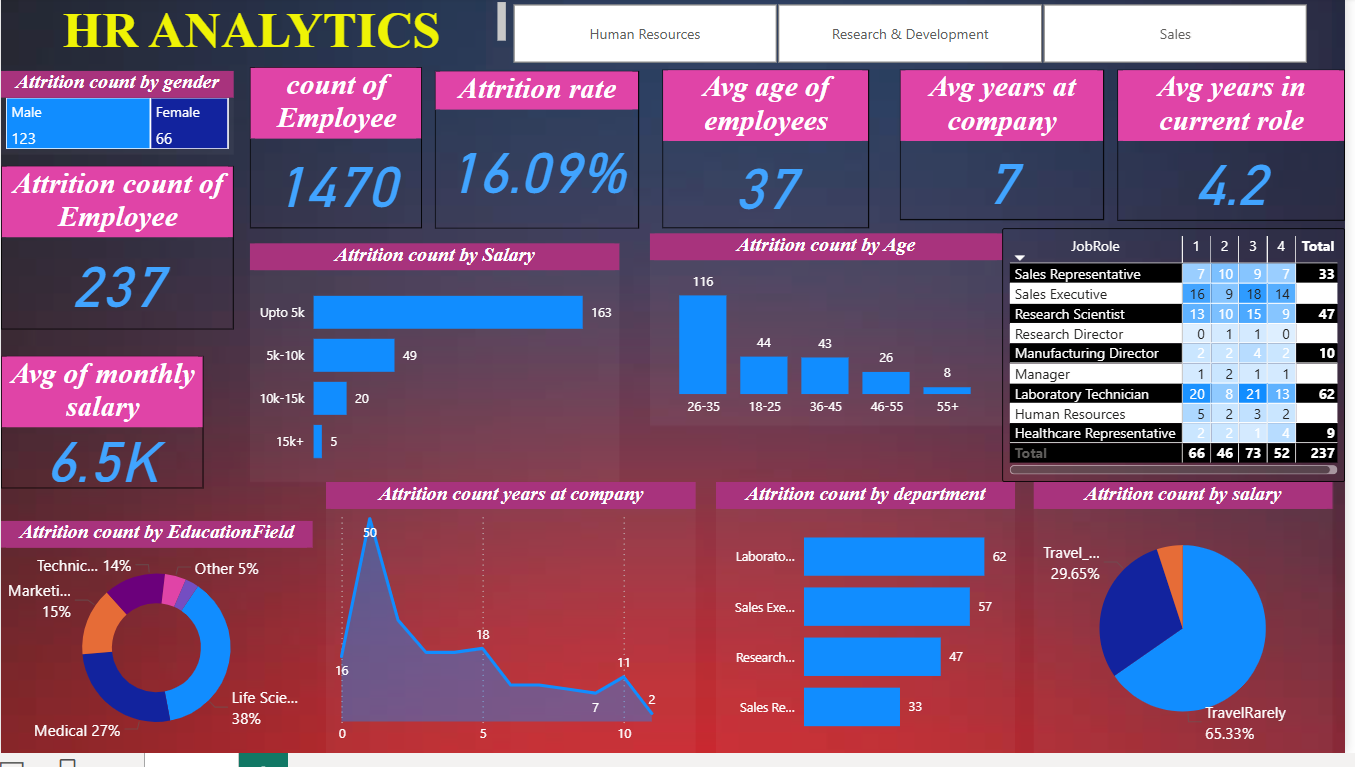

The dashboard page shown, as its layout file describes it:
{"tool":"powerbi","page":{"name":"Page 1","canvas":[1280,720],"ordinal":0},"visuals":[{"type":"card","title":"count of Employee","fields":{"Values":["Count(HR_Analytics.EmpID)"]},"box":[236.9,66.7,164.3,153.6],"z":0},{"type":"card","title":" Attrition count of Employee","fields":{"Values":["Sum(HR_Analytics.Attrition count)"]},"box":[0,160.7,221.4,156],"z":1000},{"type":"card","title":"Attrition rate  ","fields":{"Values":["HR_Analytics.Attriton count rate"]},"box":[413.1,70.2,194,150],"z":2000},{"type":"card","title":"Avg age of employees","fields":{"Values":["Avg(HR_Analytics.Age)"]},"box":[629.8,69,196.4,151.2],"z":3000},{"type":"card","title":"Avg of monthly salary","fields":{"Values":["Avg(HR_Analytics.MonthlyIncome)"]},"box":[0,341.7,192.9,126.2],"z":4000},{"type":"card","title":"Avg years in current role","fields":{"Values":["Avg(HR_Analytics.YearsInCurrentRole)"]},"box":[1063.1,69,216.7,144],"z":5000},{"type":"card","title":"Avg years at company","fields":{"Values":["Avg(HR_Analytics.YearsAtCompany)"]},"box":[856,69,194,142.9],"z":6000},{"type":"donutChart","title":"Attrition count by EducationField","fields":{"Category":["HR_Analytics.EducationField"],"Y":["Sum(HR_Analytics.Attrition count)"]},"box":[0,498.8,296.4,221.4],"z":7000},{"type":"columnChart","title":"Attrition count by Age","fields":{"Category":["HR_Analytics.AgeGroup"],"Y":["Sum(HR_Analytics.Attrition count)"]},"box":[617.9,225,335.7,183.3],"z":8000},{"type":"pivotTable","title":"Attrition count by Age","fields":{"Rows":["HR_Analytics.JobRole"],"Columns":["HR_Analytics.JobSatisfaction"],"Values":["Sum(HR_Analytics.Attrition count)"]},"box":[953.6,220.2,326.2,241.7],"z":9000},{"type":"barChart","title":"Attrition count by Salary","fields":{"Category":["HR_Analytics.SalarySlab"],"Y":["Sum(HR_Analytics.Attrition count)"]},"box":[236.9,234.5,352.4,227.4],"z":10000},{"type":"areaChart","title":"Attrition count years at company","fields":{"Category":["HR_Analytics.YearsAtCompany"],"Y":["Sum(HR_Analytics.Attrition count)"]},"box":[309.5,461.9,352.4,258.3],"z":11000},{"type":"barChart","title":"Attrition count by department","fields":{"Y":["Sum(HR_Analytics.Attrition count)"],"Category":["HR_Analytics.JobRole"]},"box":[681,461.9,284.5,258.3],"z":12000},{"type":"treemap","title":"Attrition count by gender","fields":{"Values":["Sum(HR_Analytics.Attrition count)"],"Group":["HR_Analytics.Gender"]},"box":[0,70.2,221.4,79.8],"z":13000},{"type":"slicer","fields":{"Values":["HR_Analytics.Department"]},"box":[461.9,0,806,69],"z":14000},{"type":"textbox","box":[0,0,485.7,55],"z":15000},{"type":"pieChart","title":"Attrition count by salary","fields":{"Y":["Sum(HR_Analytics.Attrition count)"],"Category":["HR_Analytics.BusinessTravel"]},"box":[983.3,461.9,284.5,258.3],"z":16000}]}

Visuals, with their boxes in screenshot pixels (x1, y1, x2, y2), scaled from the page's 1280x720 canvas onto the 1355x767 screenshot:
"count of Employee" card: {"left": 251, "top": 71, "right": 425, "bottom": 235}
" Attrition count of Employee" card: {"left": 0, "top": 171, "right": 234, "bottom": 337}
"Attrition rate  " card: {"left": 437, "top": 75, "right": 643, "bottom": 235}
"Avg age of employees" card: {"left": 667, "top": 74, "right": 875, "bottom": 235}
"Avg of monthly salary" card: {"left": 0, "top": 364, "right": 204, "bottom": 498}
"Avg years in current role" card: {"left": 1125, "top": 74, "right": 1354, "bottom": 227}
"Avg years at company" card: {"left": 906, "top": 74, "right": 1112, "bottom": 226}
"Attrition count by EducationField" donutChart: {"left": 0, "top": 531, "right": 314, "bottom": 766}
"Attrition count by Age" columnChart: {"left": 654, "top": 240, "right": 1009, "bottom": 435}
"Attrition count by Age" pivotTable: {"left": 1009, "top": 235, "right": 1354, "bottom": 492}
"Attrition count by Salary" barChart: {"left": 251, "top": 250, "right": 624, "bottom": 492}
"Attrition count years at company" areaChart: {"left": 328, "top": 492, "right": 701, "bottom": 766}
"Attrition count by department" barChart: {"left": 721, "top": 492, "right": 1022, "bottom": 766}
"Attrition count by gender" treemap: {"left": 0, "top": 75, "right": 234, "bottom": 160}
slicer - HR_Analytics.Department: {"left": 489, "top": 0, "right": 1342, "bottom": 74}
textbox: {"left": 0, "top": 0, "right": 514, "bottom": 59}
"Attrition count by salary" pieChart: {"left": 1041, "top": 492, "right": 1342, "bottom": 766}
